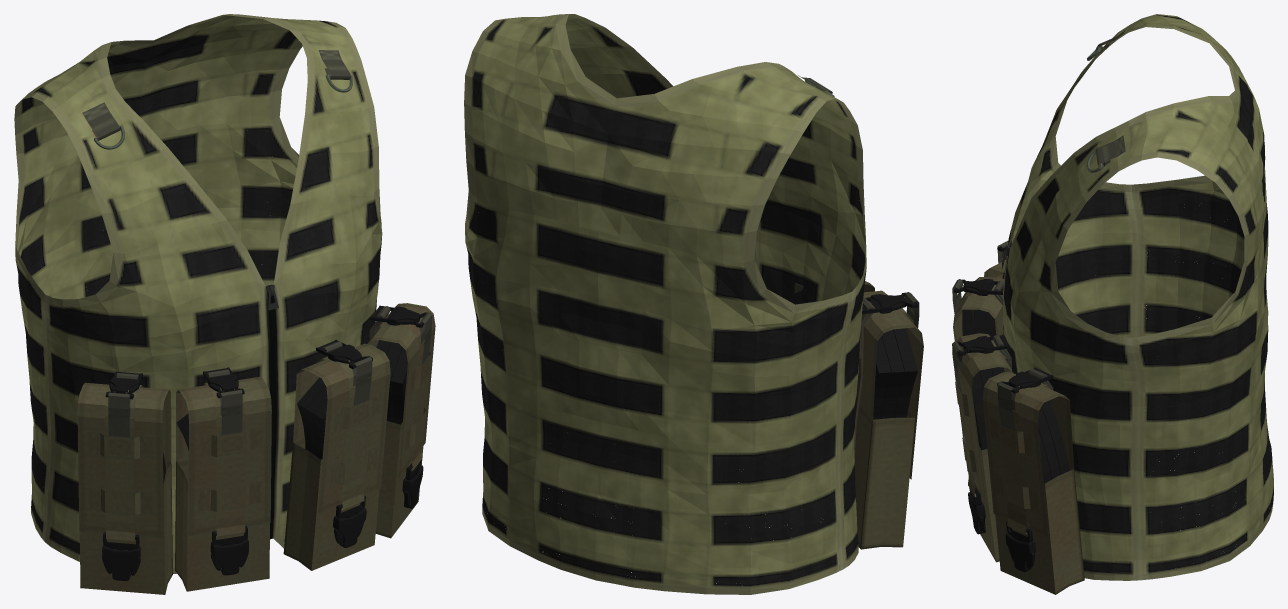
Rendered from mhw_mindfront_tactical_vest_male.glb.
The picture shows the model from 3 angles, left to right: view 1: azimuth 30°, elevation 25°; view 2: azimuth 150°, elevation 25°; view 3: azimuth 270°, elevation 25°; orthographic projection. The views are drawn at different scales.
Parts seen in each view (by area): view 1: mhw_mindfront_tactical_vest_male; view 2: mhw_mindfront_tactical_vest_male; view 3: mhw_mindfront_tactical_vest_male.
Boxes of the visible parts, bbox=[...] form: mhw_mindfront_tactical_vest_male: bbox=[14, 14, 435, 594]; mhw_mindfront_tactical_vest_male: bbox=[464, 14, 923, 594]; mhw_mindfront_tactical_vest_male: bbox=[952, 14, 1273, 594].
Bounding box in the file's own units: 0.4353 × 0.539 × 0.3487.
1 material, 1 textured.
